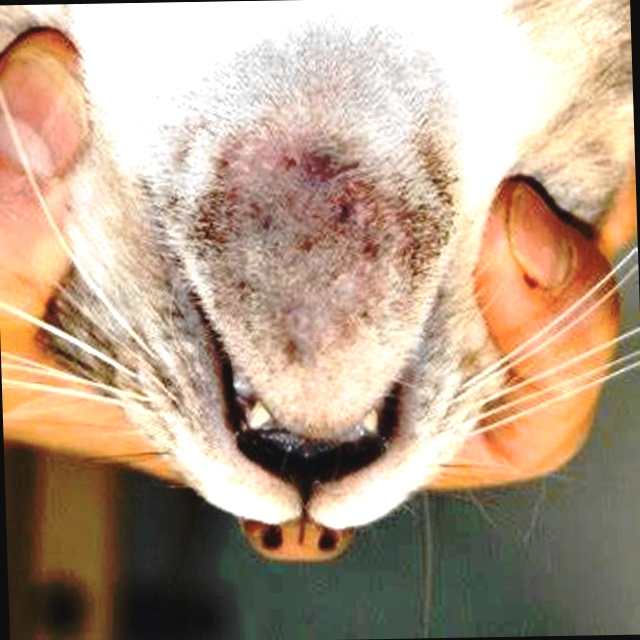acne: (181, 131, 442, 364)
